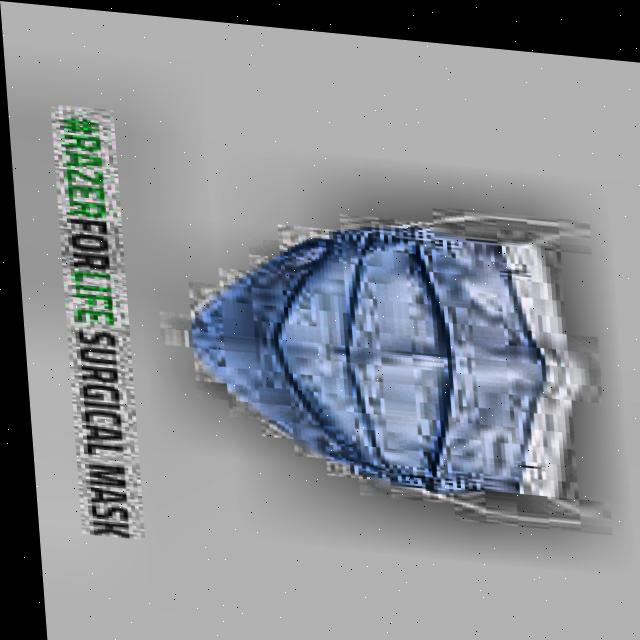trash: (180, 206, 597, 508)
